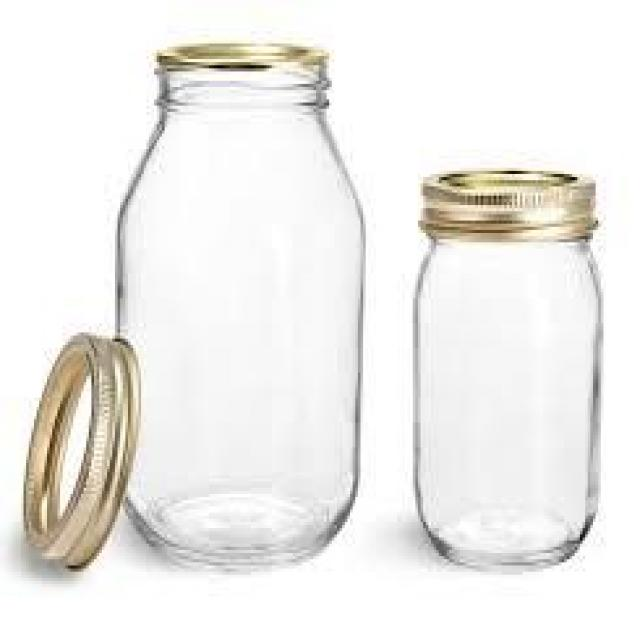non-organic waste: (404, 158, 610, 575)
